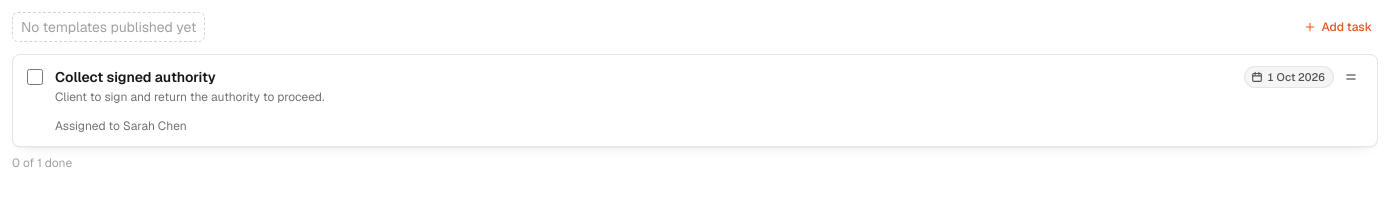
Scenario: the workflow’s tasks › a refused tick is put back, with the reason
The image size is (1390, 217).
Step 1. Click the checkbox named "Collect signed authority" → {"x": 35, "y": 77}, box [27,69,43,85]
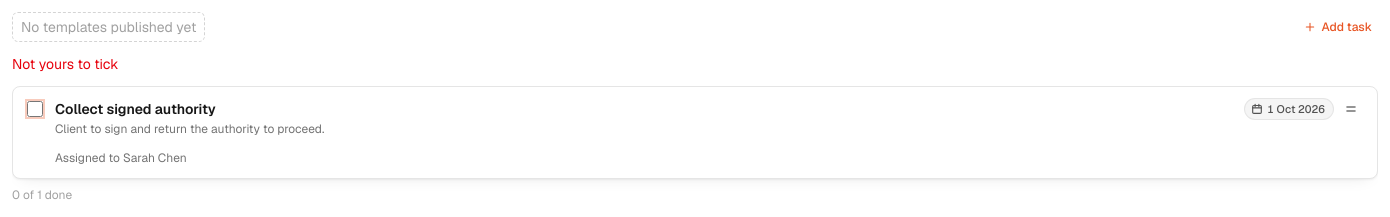
Check: the checkbox named "Mark done: Collect signed authority" is not checked, box [27,101,43,117]
Check: the message reads "Not yours to tick", box [12,55,119,73]
